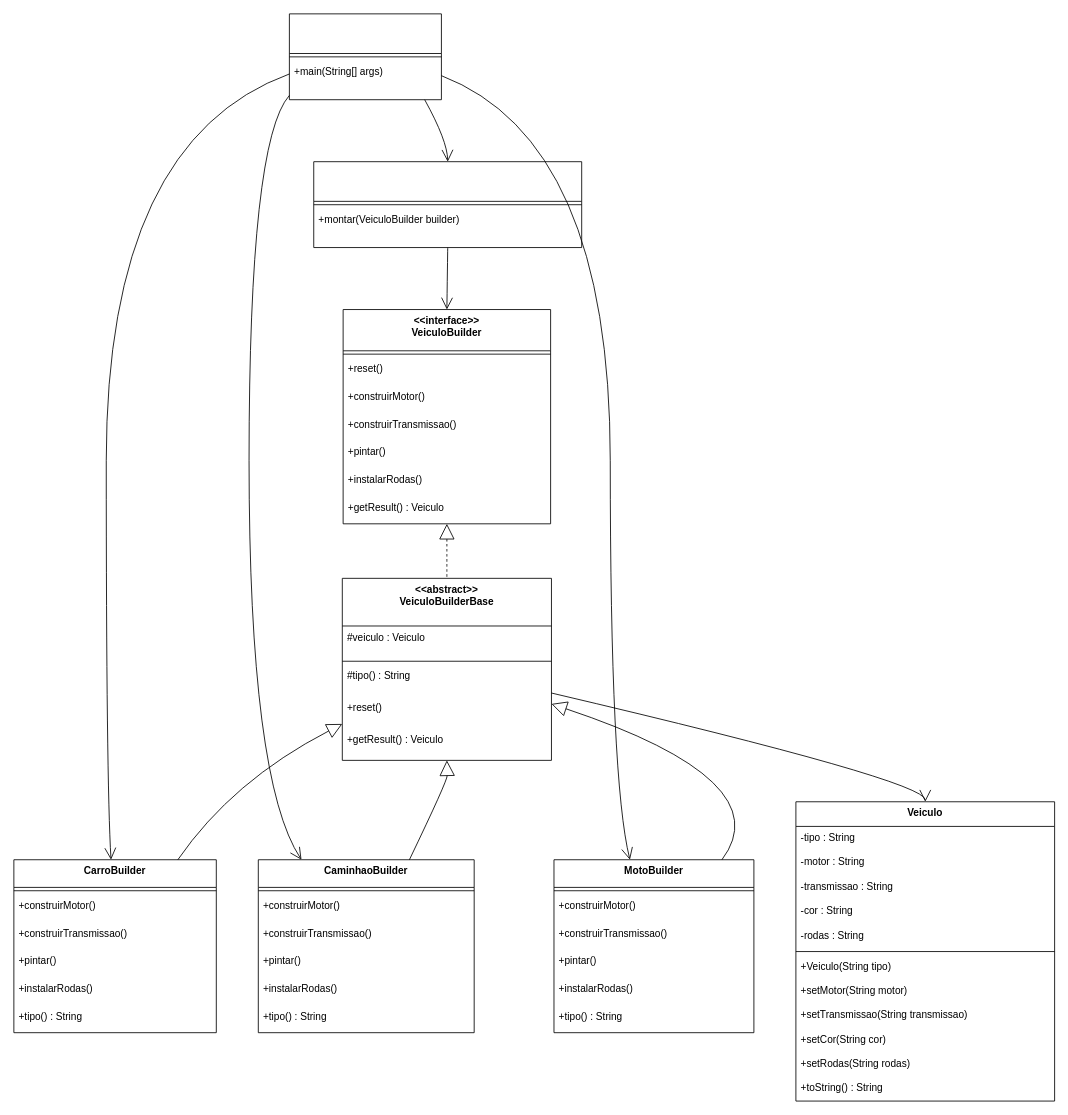
This 1068x1115 diagram has some shape labels left out. The box of each missing label's shape, as (x1, y1, x2, y2) in pixels:
App: (289, 13, 441, 100)
DiretorMontagem: (313, 161, 582, 248)
